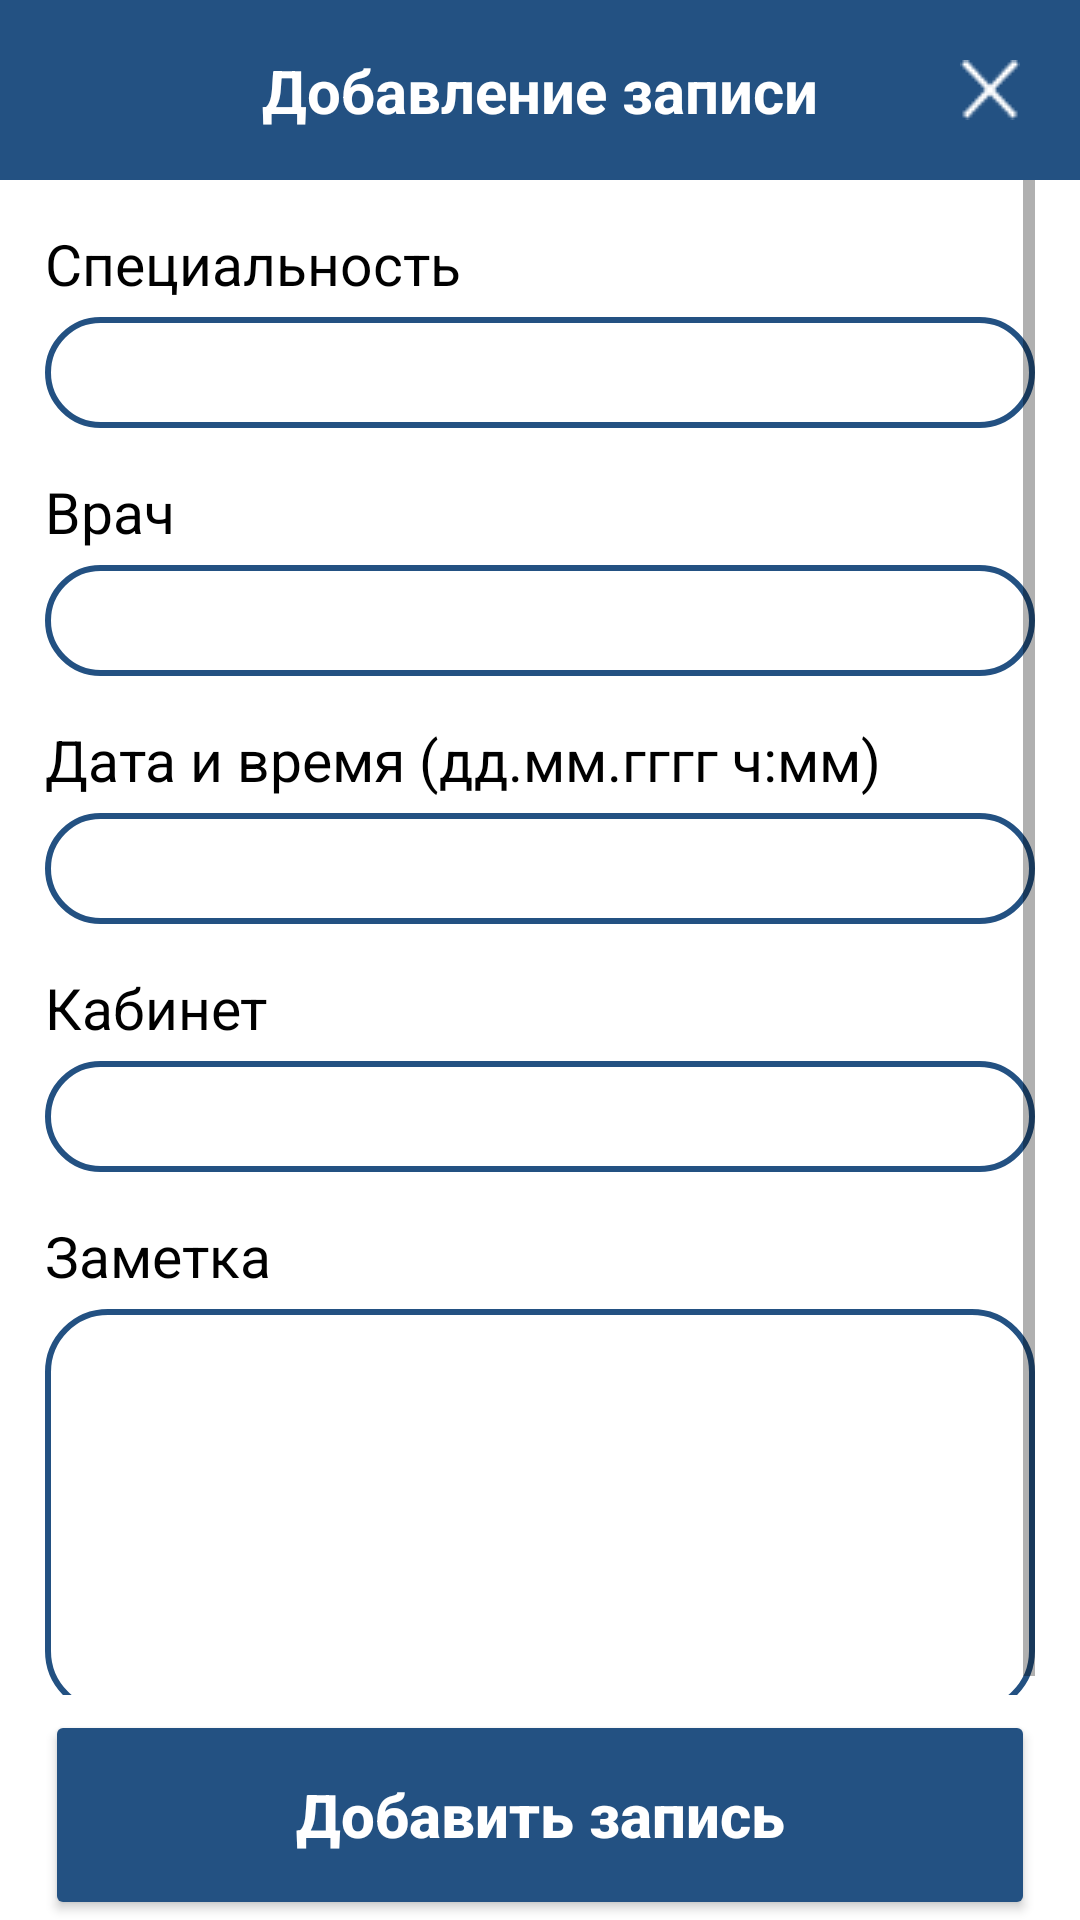

Locate icon controls on the screen. Image size 1080px x 1920px, boxes as (x1, y1, x2, y2).
closebutton: (960, 60, 1020, 120)
